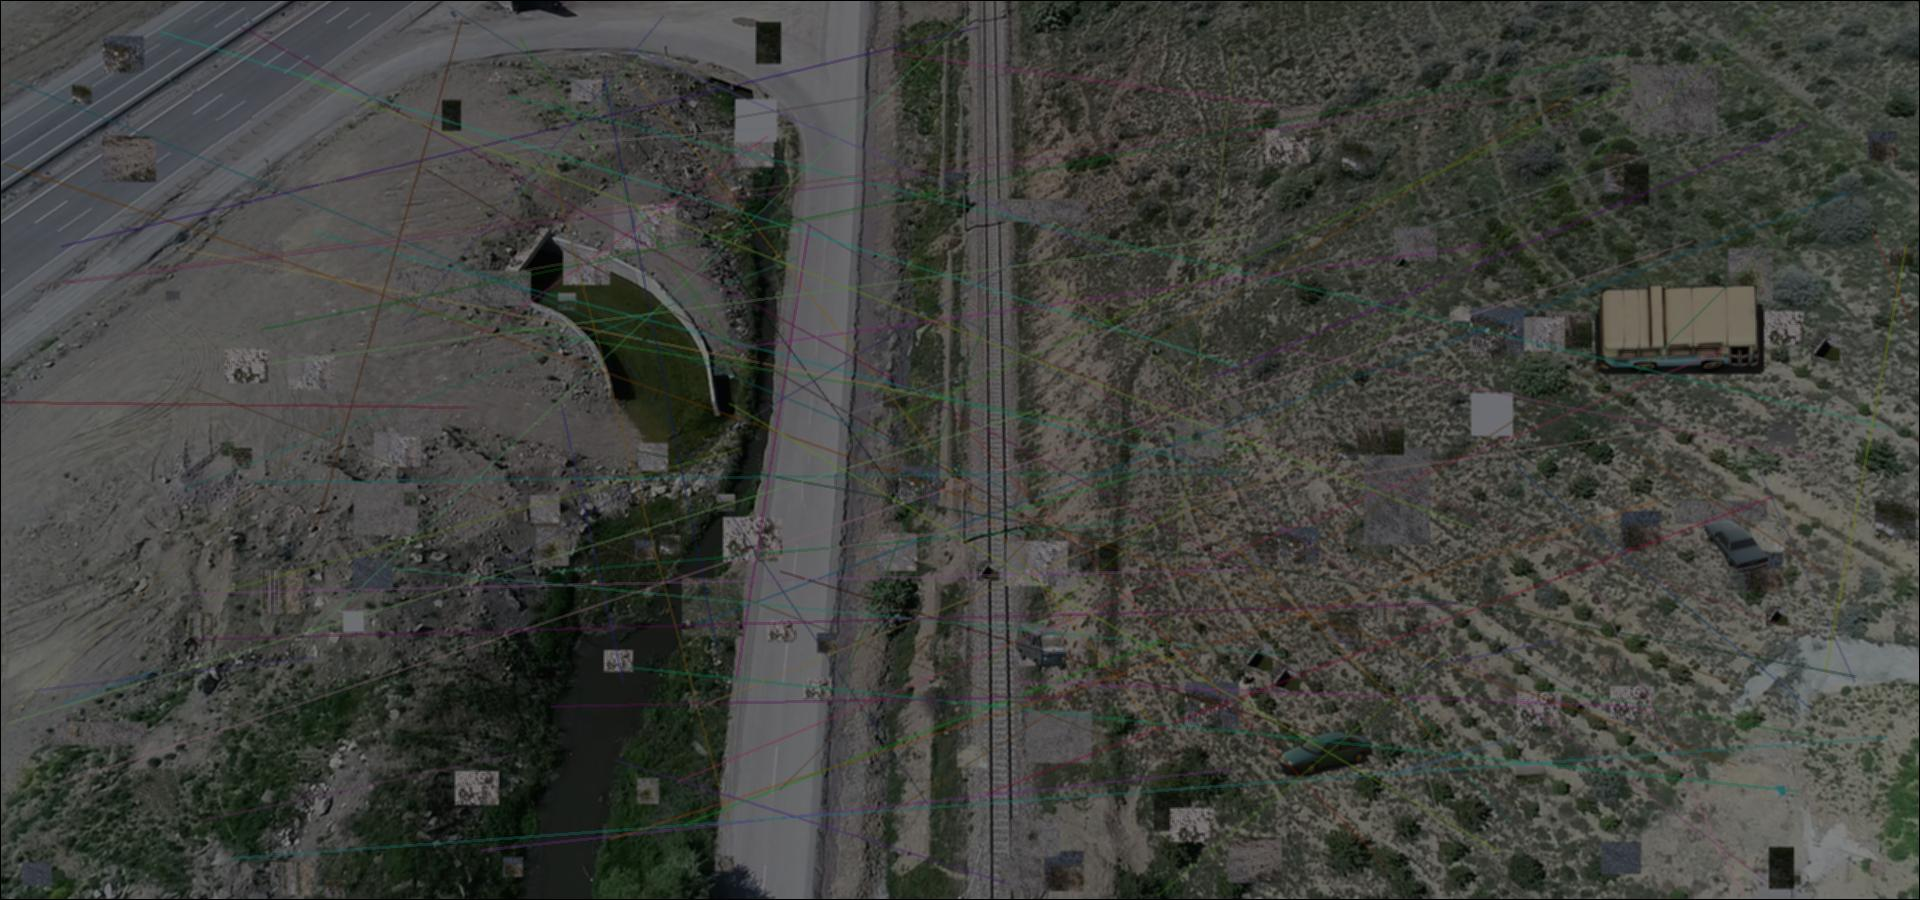arac: (1589, 284, 1764, 373), (1280, 727, 1373, 776), (1703, 518, 1769, 572), (1014, 622, 1069, 672)
